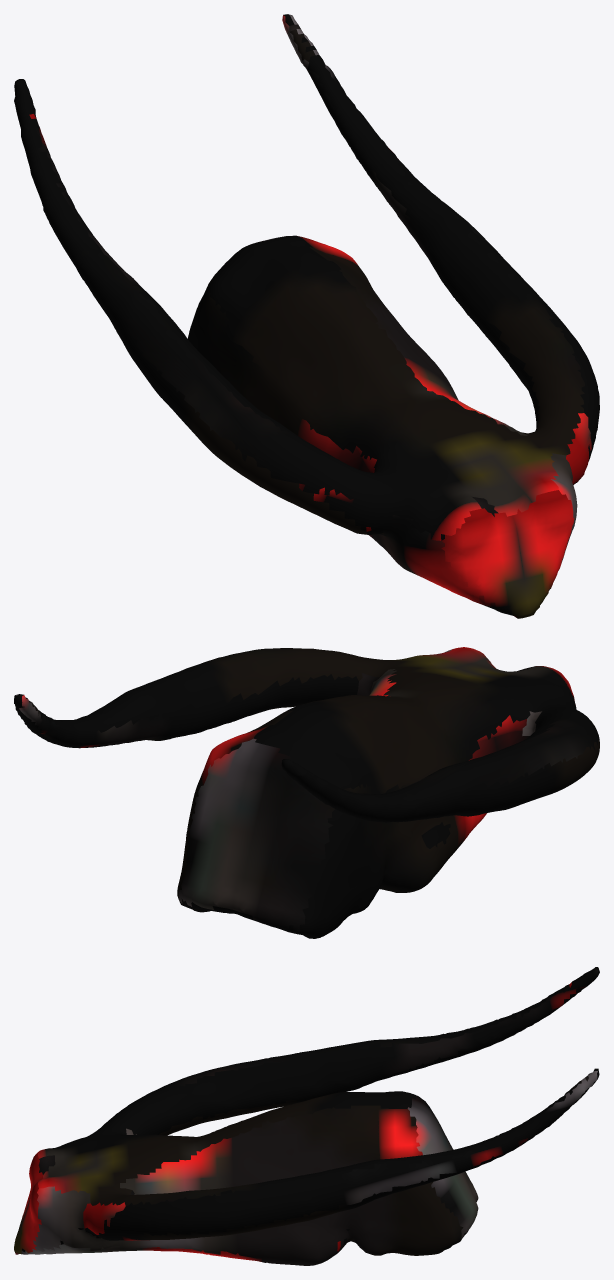
3 views of the same model, one above another, from view 1: azimuth 30°, elevation 25°; view 2: azimuth 150°, elevation 25°; view 3: azimuth 270°, elevation 25° (orthographic). The views are drawn at different scales.
Parts seen in each view (by area): view 1: world; view 2: world; view 3: world.
Part boxes in pixels (x1=…): world: x1=14, y1=14, x2=599, y2=618; world: x1=14, y1=647, x2=599, y2=938; world: x1=14, y1=967, x2=599, y2=1265.
Size of the model in its own units: 1.13 by 0.8676 by 1.98.
1 material, 1 textured.
